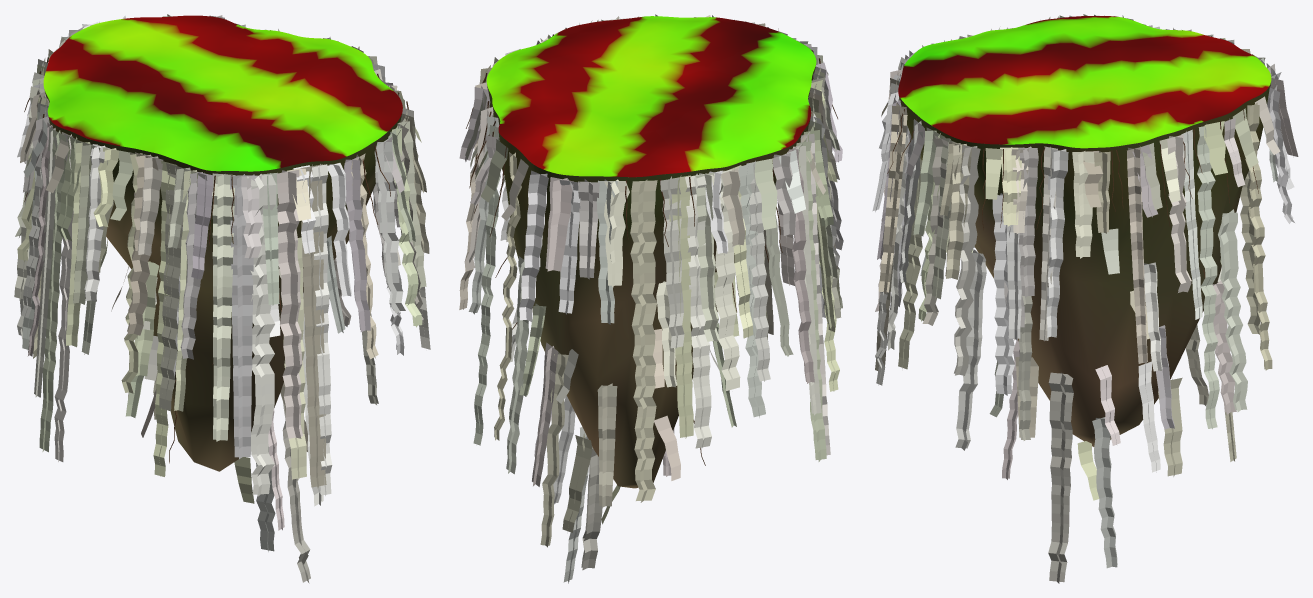
The model's file is SM_H12_Floater03.fbx.
3 views of the same model, side by side, from view 1: azimuth 30°, elevation 25°; view 2: azimuth 150°, elevation 25°; view 3: azimuth 270°, elevation 25° (orthographic). The views are drawn at different scales.
Parts seen in each view (by area): view 1: SM_H12_Floater03_Ivy, SM_H12_Floater03; view 2: SM_H12_Floater03_Ivy, SM_H12_Floater03; view 3: SM_H12_Floater03_Ivy, SM_H12_Floater03.
Boxes of the visible parts, bbox=[...] form: SM_H12_Floater03_Ivy: bbox=[14, 14, 430, 583]; SM_H12_Floater03: bbox=[43, 15, 402, 471]; SM_H12_Floater03_Ivy: bbox=[459, 14, 843, 583]; SM_H12_Floater03: bbox=[486, 16, 816, 488]; SM_H12_Floater03_Ivy: bbox=[872, 14, 1298, 583]; SM_H12_Floater03: bbox=[898, 16, 1271, 446].
Bounding box in the file's own units: 33.85 × 47.13 × 38.44.
